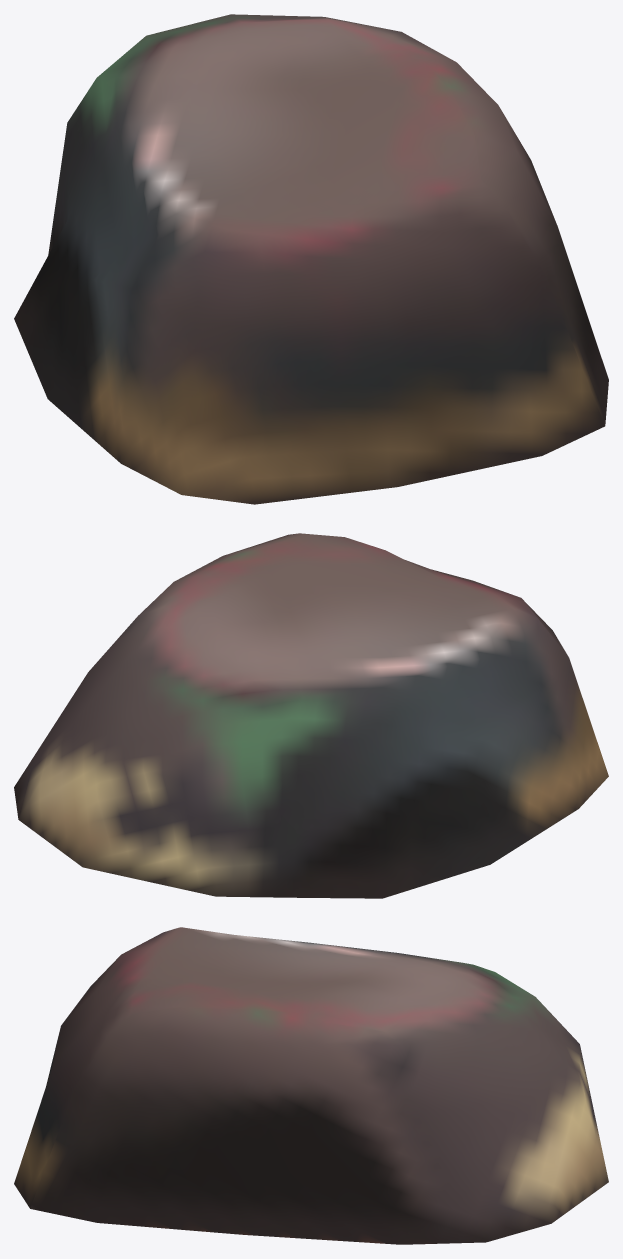
Rendered from Beach_RockPlatform_3.glb.
3 views of the same model, one above another, from view 1: azimuth 30°, elevation 25°; view 2: azimuth 150°, elevation 25°; view 3: azimuth 270°, elevation 25° (orthographic). The views are drawn at different scales.
Visible parts, largest first — view 1: Object_2.014; view 2: Object_2.014; view 3: Object_2.014.
Part boxes in pixels (x1,y1,x2,y2): Object_2.014: (14,14,608,504); Object_2.014: (14,533,608,898); Object_2.014: (14,927,608,1244).
Size of the model in its own units: 17.43 by 8.53 by 21.73.
1 material, 1 textured.
